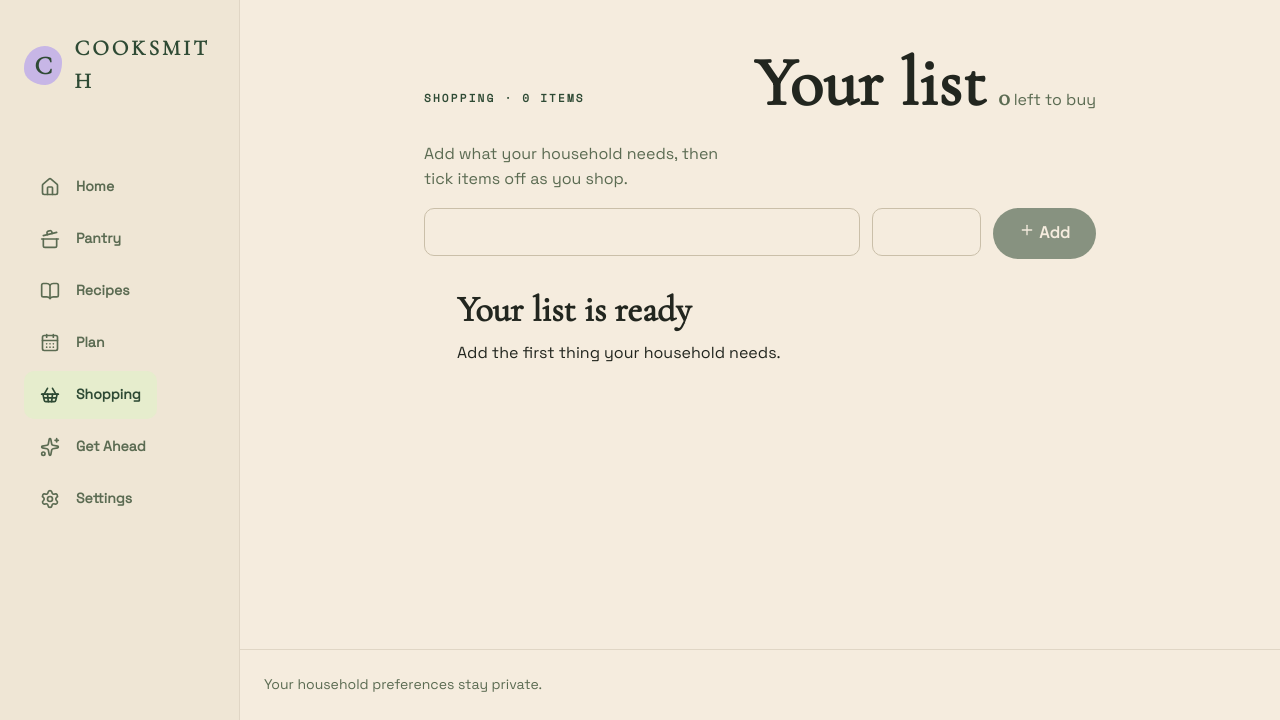
shopping list foundation › submits quick add from the keyboard through the same mutation
Step 1. Type "Bread" into the 1st field named "Item name" → (642, 232), box [424,208,860,256]
Then press Enter
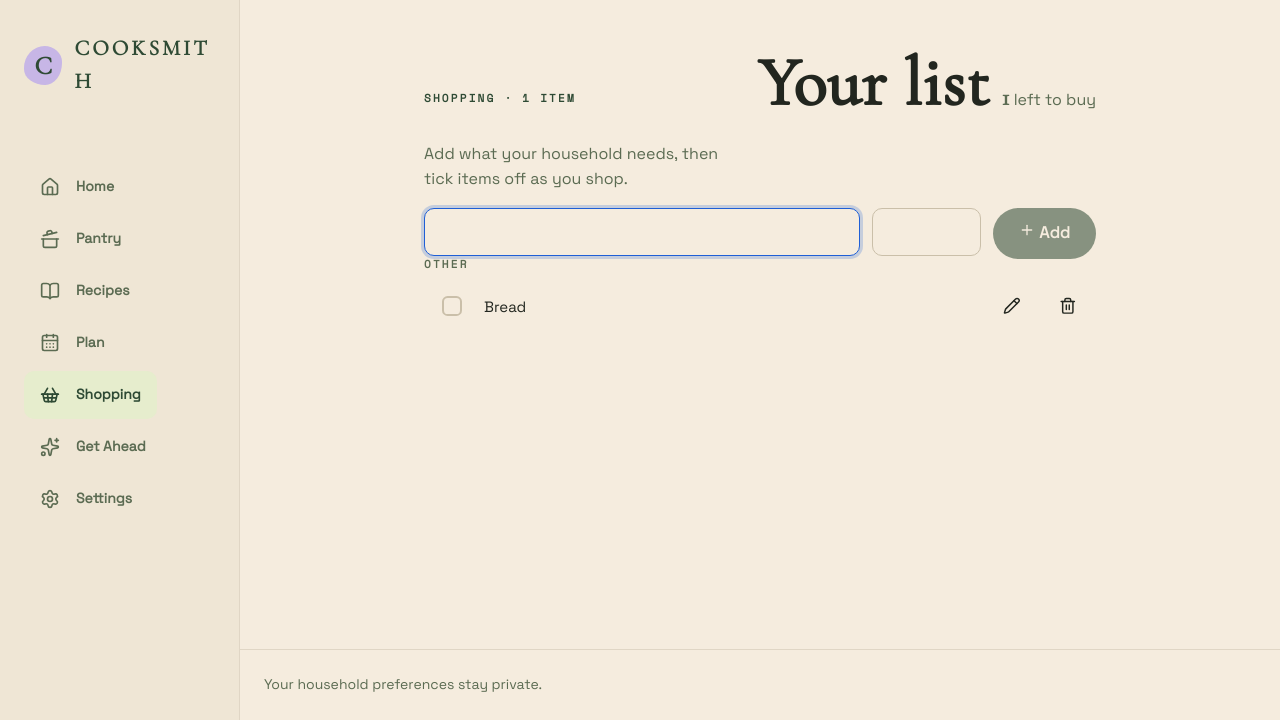
Check: the text "Bread" is shown, box [484,297,526,316]
